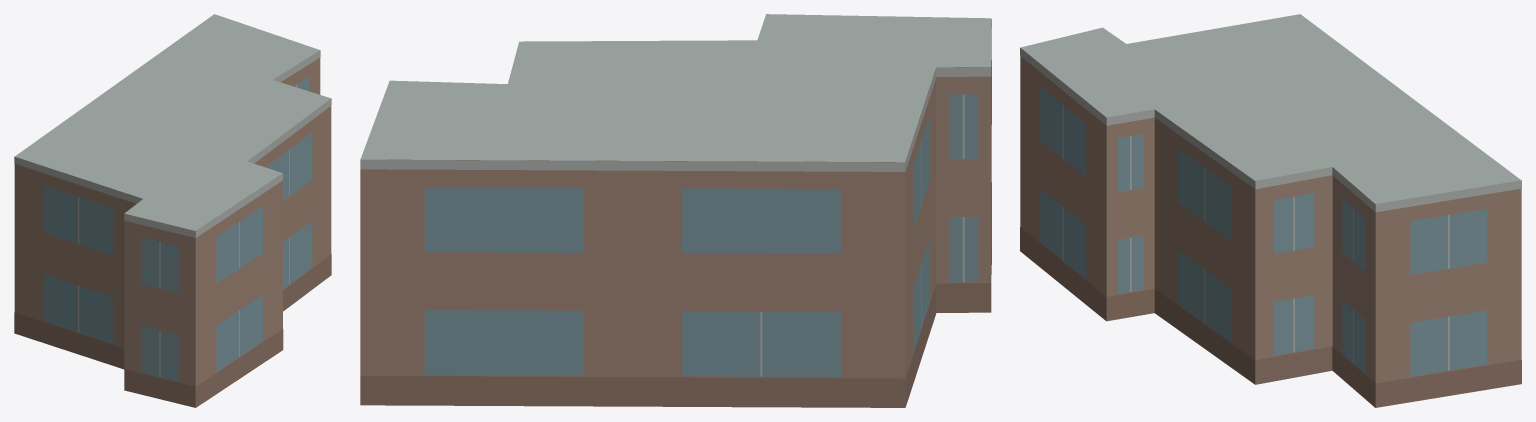
Rendered from survey-upis-32726318.glb.
3 views of the same model, side by side, from view 1: azimuth 30°, elevation 25°; view 2: azimuth 150°, elevation 25°; view 3: azimuth 270°, elevation 25° (orthographic). The views are drawn at different scales.
Parts seen in each view (by area): view 1: survey-upis-32726318.tmp; view 2: survey-upis-32726318.tmp; view 3: survey-upis-32726318.tmp.
Boxes of the visible parts, x1=… form: survey-upis-32726318.tmp: x1=14, y1=14, x2=331, y2=407; survey-upis-32726318.tmp: x1=360, y1=14, x2=991, y2=407; survey-upis-32726318.tmp: x1=1020, y1=14, x2=1521, y2=407.
Size of the model in its own units: 12.23 by 6.1 by 13.63.
